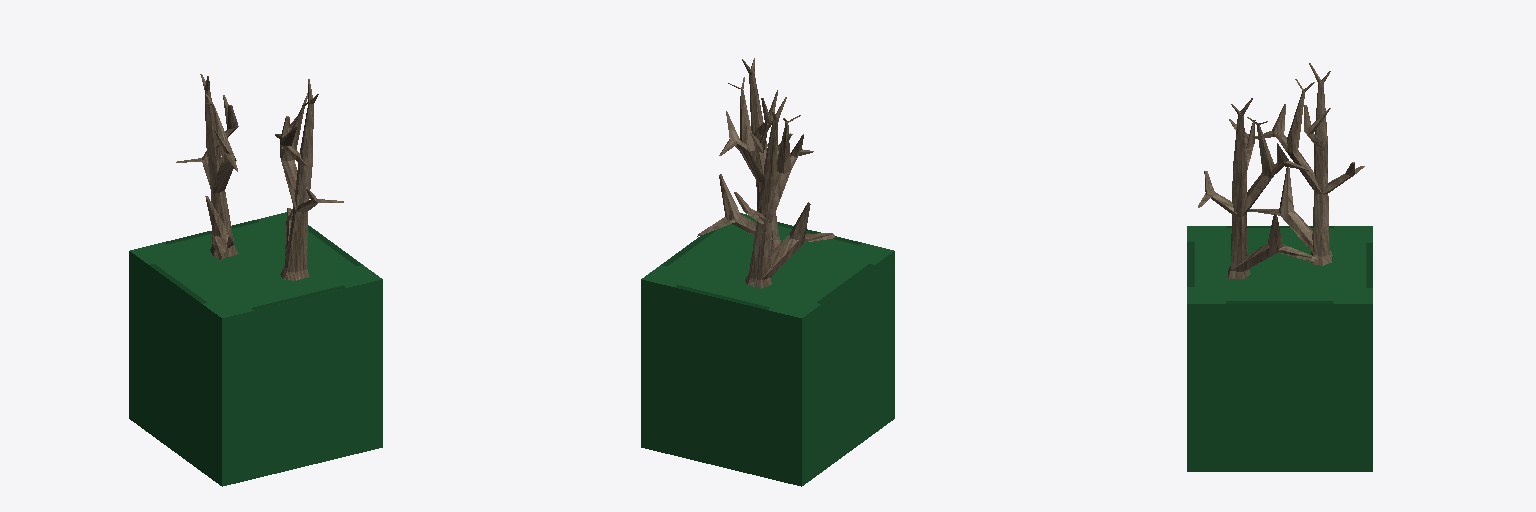
The picture shows the model from 3 angles: view 1: azimuth 30°, elevation 25°; view 2: azimuth 150°, elevation 25°; view 3: azimuth 270°, elevation 25°; orthographic projection.
Parts seen in each view (by area): view 1: Box001.060, Cylinder.006, Cylinder.005; view 2: Box001.060, Cylinder.005, Cylinder.006; view 3: Box001.060, Cylinder.005, Cylinder.006.
Part boxes in pixels (x1,y1,x2,y2): Box001.060: (129, 212, 382, 486); Cylinder.006: (275, 79, 343, 280); Cylinder.005: (176, 74, 238, 260); Box001.060: (641, 213, 894, 486); Cylinder.005: (734, 97, 834, 288); Cylinder.006: (697, 58, 792, 250); Box001.060: (1187, 226, 1372, 471); Cylinder.005: (1248, 63, 1364, 265); Cylinder.006: (1198, 98, 1316, 279).
Size of the model in its own units: 0.254 by 0.535 by 0.254.
Materials: 2 (2 with a texture image).